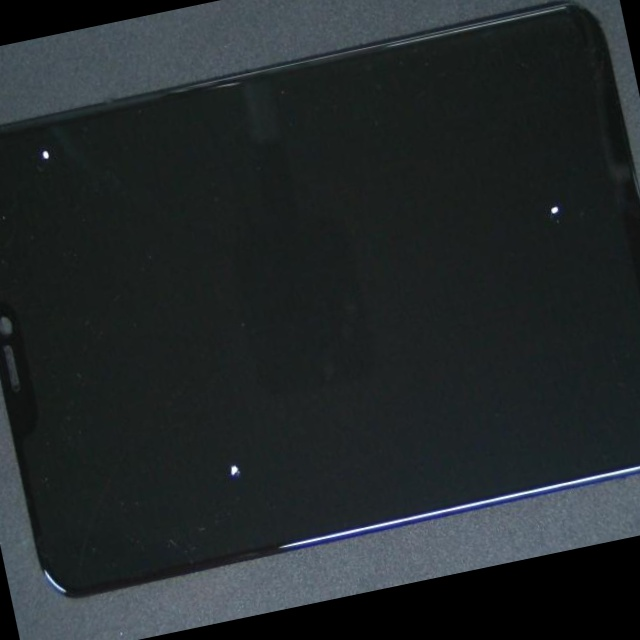stain: (54, 164, 370, 639), (256, 63, 640, 383), (0, 94, 141, 212)
